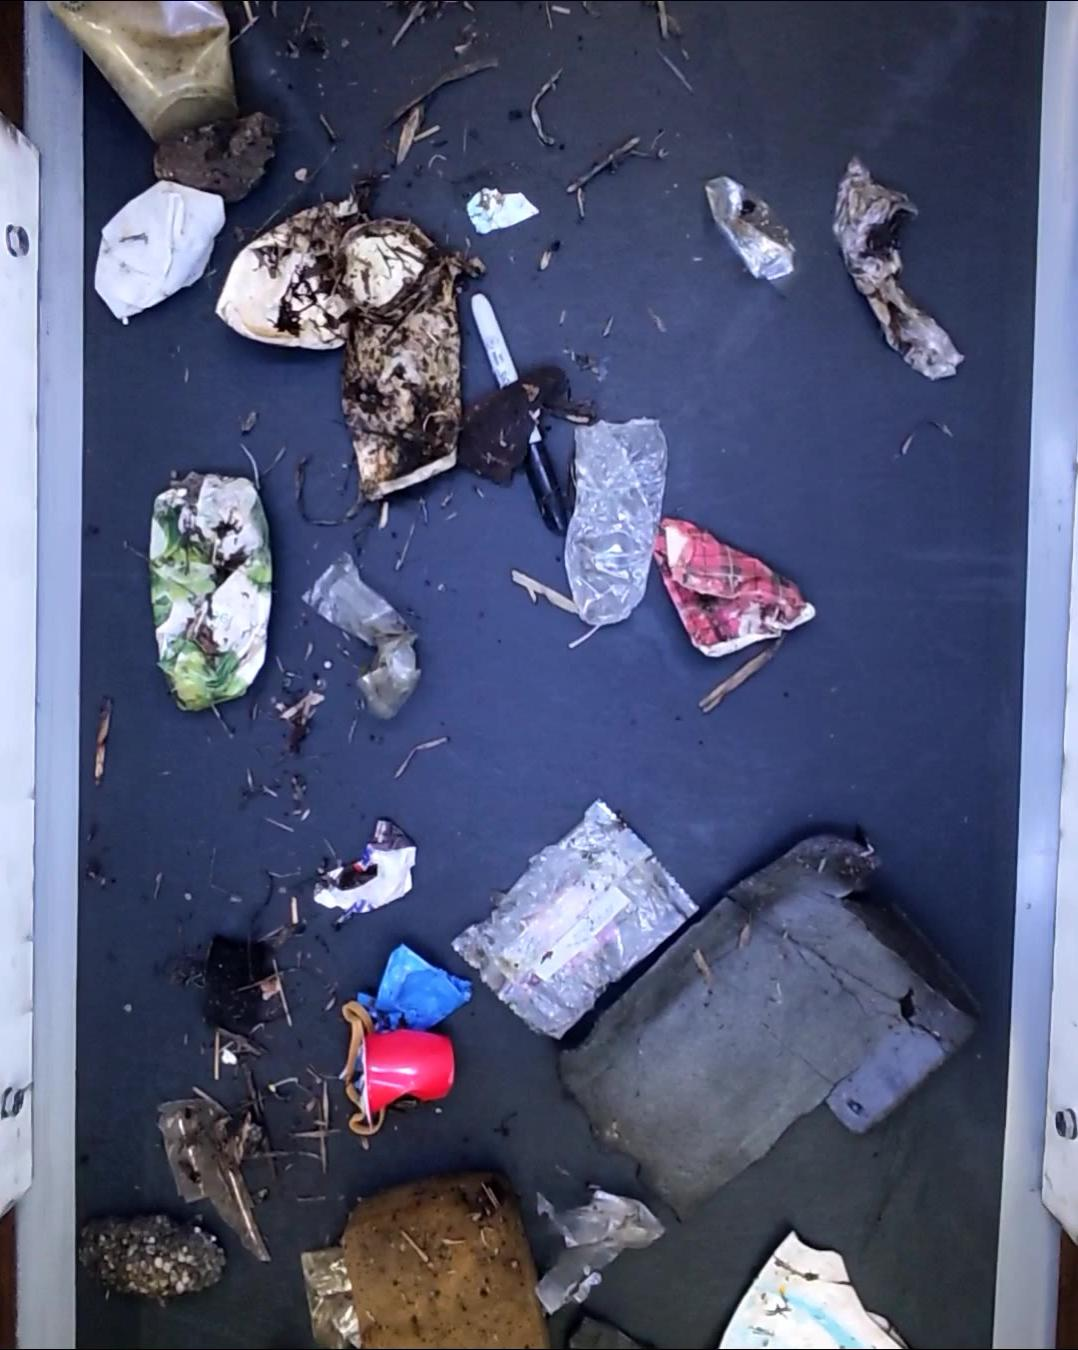Drankblikjes: (297, 1247, 364, 1350)
Plastic folies of stukken daarvan 2.5- 50 cm: (831, 157, 963, 385), (562, 410, 665, 629), (151, 1096, 272, 1269), (302, 551, 418, 717), (533, 1188, 659, 1315), (702, 175, 800, 295), (349, 943, 470, 1030)
Snoep snack en chips verpakkingen: (459, 802, 697, 1041), (315, 817, 416, 915)
Voedselverpakkingen: (356, 1027, 454, 1119)
